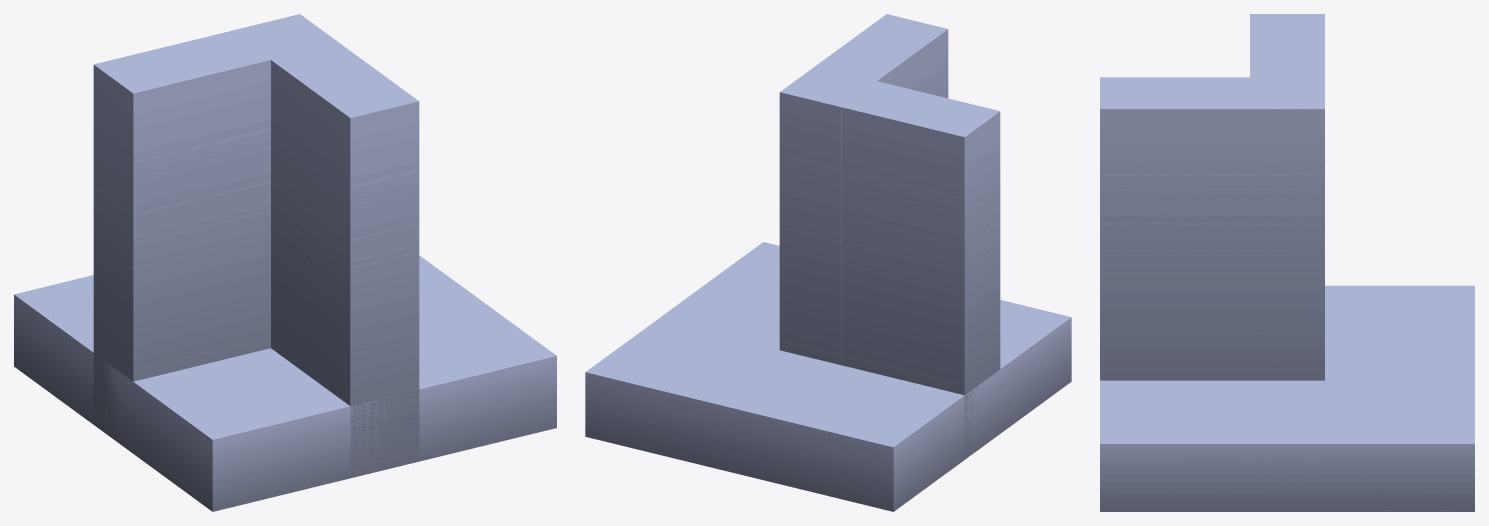
File: wall-corner.glb
3 renders of one model, left to right at view 1: azimuth 30°, elevation 25°; view 2: azimuth 150°, elevation 25°; view 3: azimuth 270°, elevation 25°, orthographic. The views are drawn at different scales.
Visible parts, largest first — view 1: floor-thick; view 2: floor-thick; view 3: floor-thick.
Part boxes in pixels (x1,y1,x2,y2): floor-thick: (14, 14, 556, 511); floor-thick: (585, 14, 1071, 511); floor-thick: (1100, 14, 1474, 511).
Size of the model in its own units: 1 by 1 by 1.
3 materials, 3 textured.
